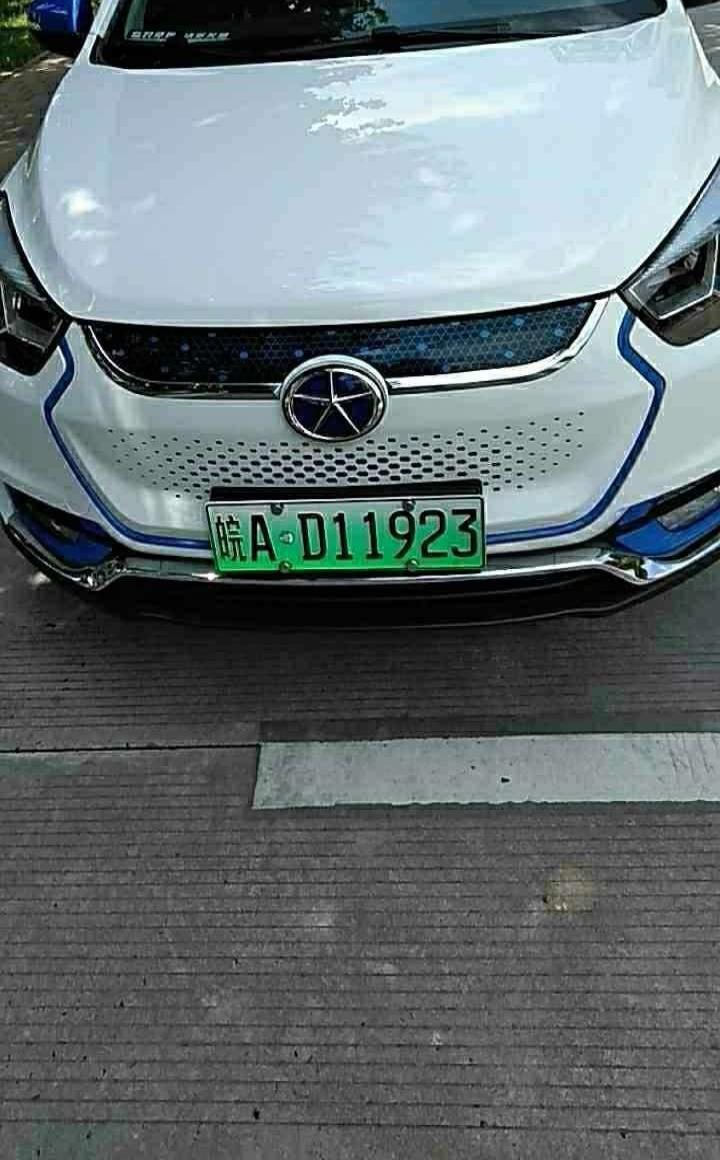car_id: (208, 500, 484, 573)
